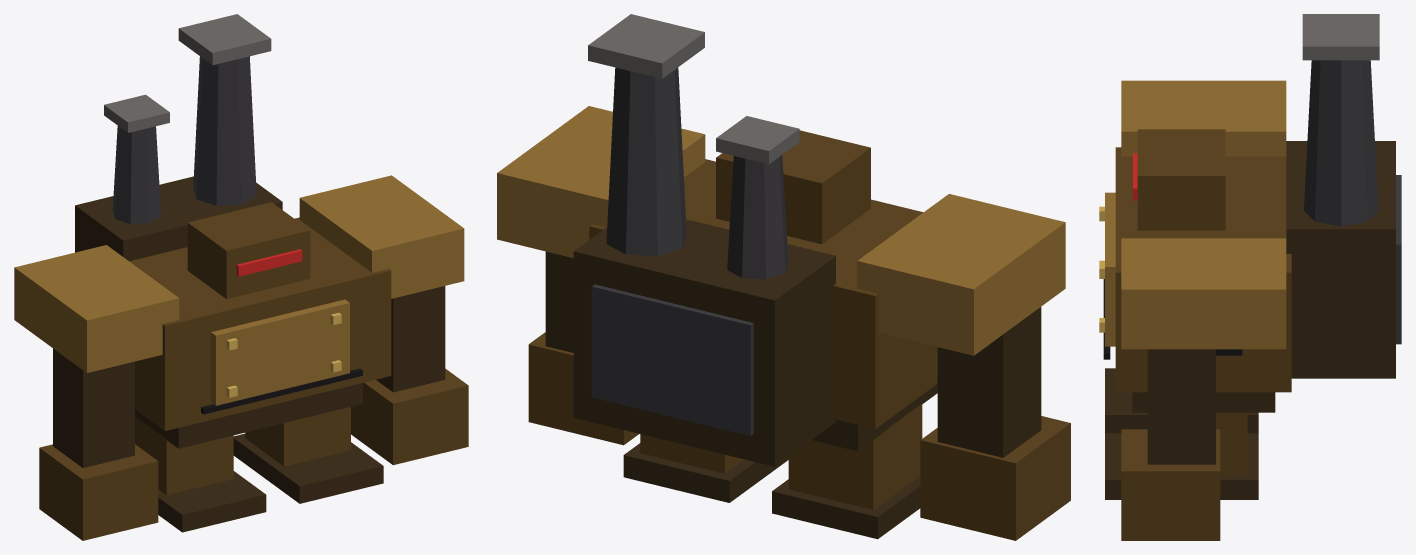
The model's file is BrassSentinel.glb.
3 views of the same model, side by side, from view 1: azimuth 30°, elevation 25°; view 2: azimuth 150°, elevation 25°; view 3: azimuth 270°, elevation 25° (orthographic). The views are drawn at different scales.
Parts seen in each view (by area): view 1: BrassSentinel; view 2: BrassSentinel; view 3: BrassSentinel.
Part boxes in pixels (box(x1,y1,x2,y2)): BrassSentinel: box(14, 14, 468, 540); BrassSentinel: box(497, 14, 1070, 540); BrassSentinel: box(1099, 14, 1401, 540).
Size of the model in its own units: 4.6 by 4.41 by 2.75.
Materials: 1 (1 with a texture image).
